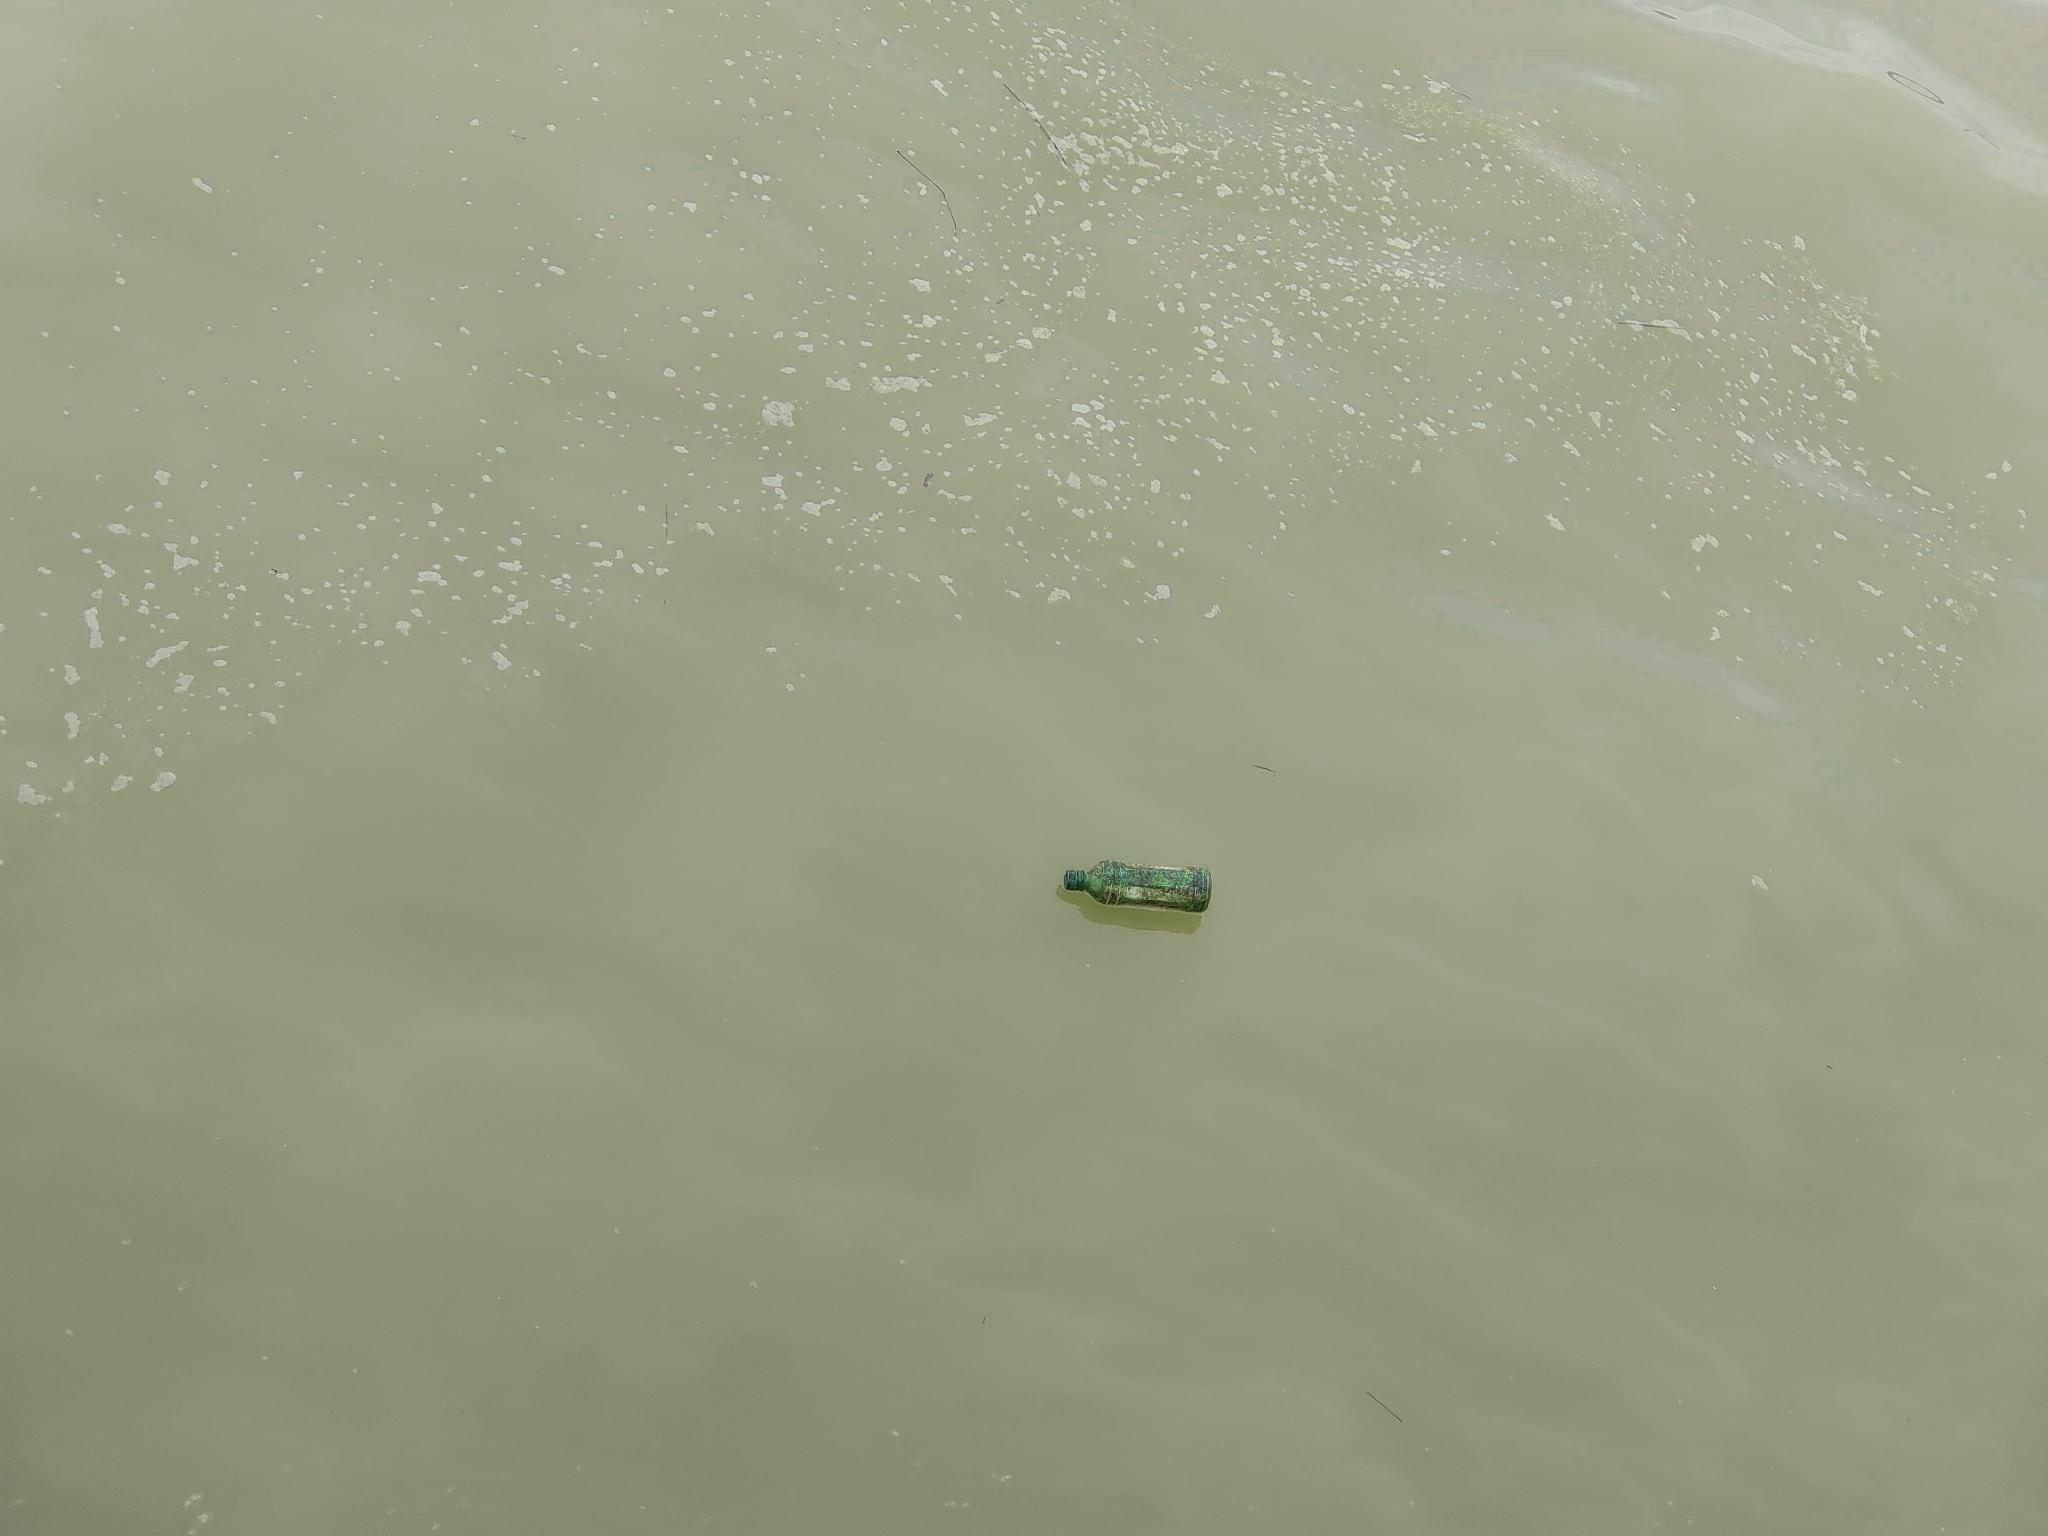Plastic: (1061, 860, 1213, 916)
